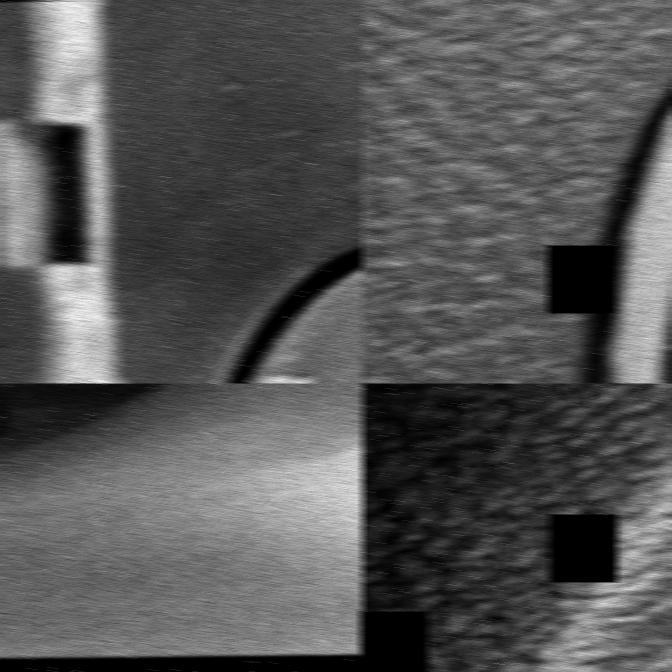Airbag: (0, 0, 363, 383), (360, 0, 672, 383), (0, 383, 363, 664), (360, 383, 672, 672)
